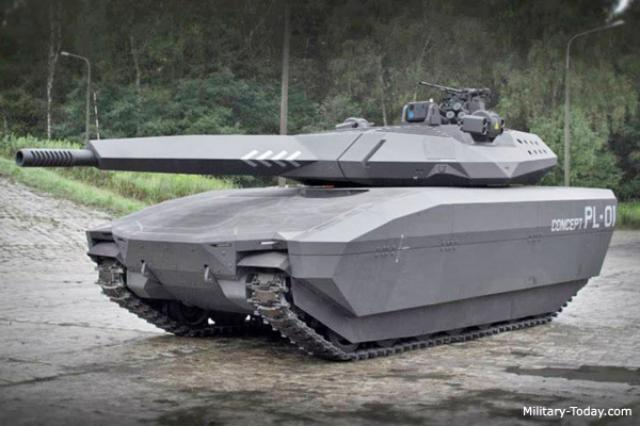tank: (106, 114, 612, 342)
